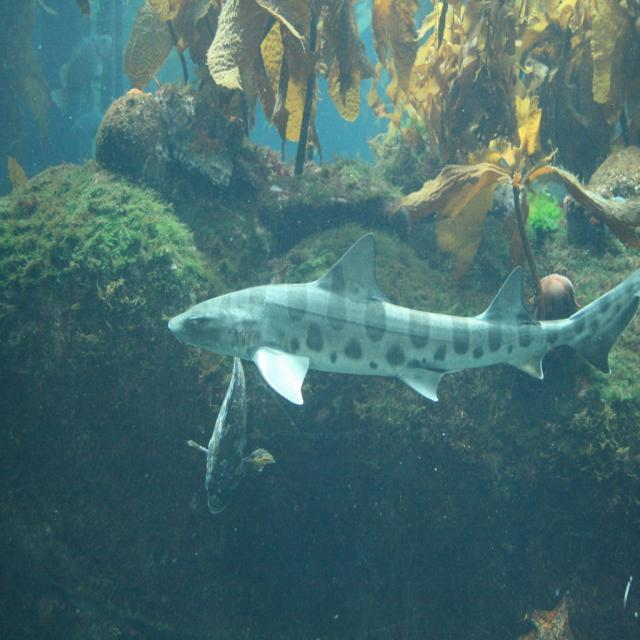Shark: (170, 233, 640, 404)
